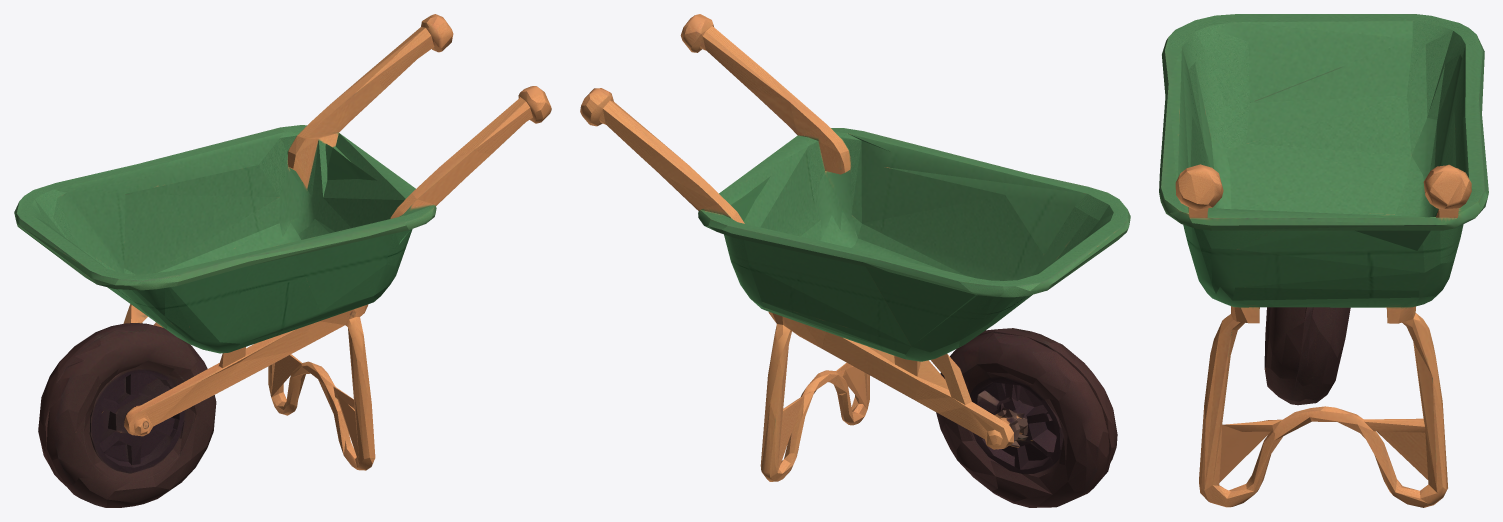
Rendered from wheelbarrow.glb.
3 views of the same model, side by side, from view 1: azimuth 30°, elevation 25°; view 2: azimuth 150°, elevation 25°; view 3: azimuth 270°, elevation 25° (orthographic). The views are drawn at different scales.
Size of the model in its own units: 1.9 by 1.41 by 0.9337.
1 material, 1 textured.
